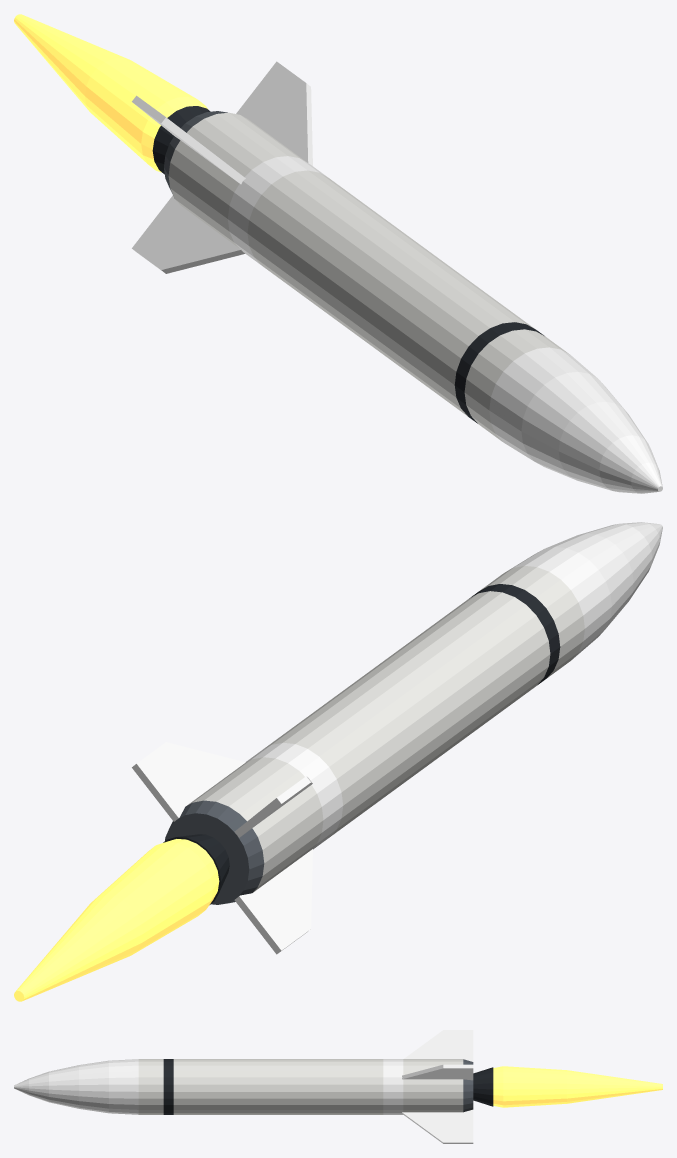
Rendered from atom_bomb.glb.
3 renders of one model, top to bottom at view 1: azimuth 30°, elevation 25°; view 2: azimuth 150°, elevation 25°; view 3: azimuth 270°, elevation 25°, orthographic. The views are drawn at different scales.
Parts seen in each view (by area): view 1: AtomBomb; view 2: AtomBomb; view 3: AtomBomb.
Boxes of the visible parts, x1,y1,x2,y2 form: AtomBomb: (14,14,662,493); AtomBomb: (14,522,662,1001); AtomBomb: (14,1030,662,1143).
Bounding box in the file's own units: 0.1754 × 0.1754 × 1.3.
